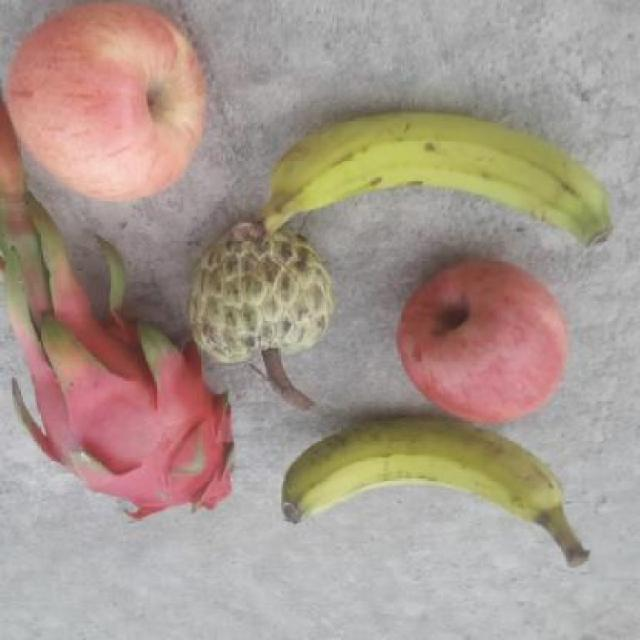apple: (0, 1, 211, 204), (397, 250, 571, 425)
banana: (252, 112, 617, 252), (274, 416, 592, 566)
dragon fruit: (16, 312, 242, 518)
sugar apple: (190, 214, 339, 374)
